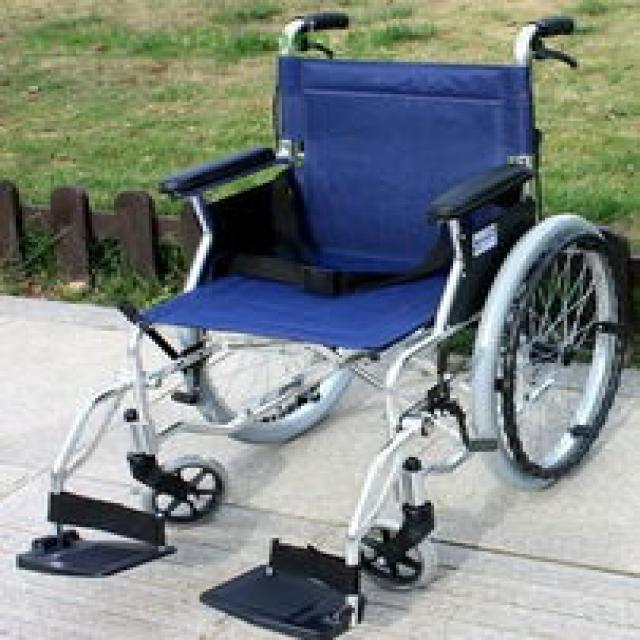wheelchairs: (35, 7, 627, 627)
